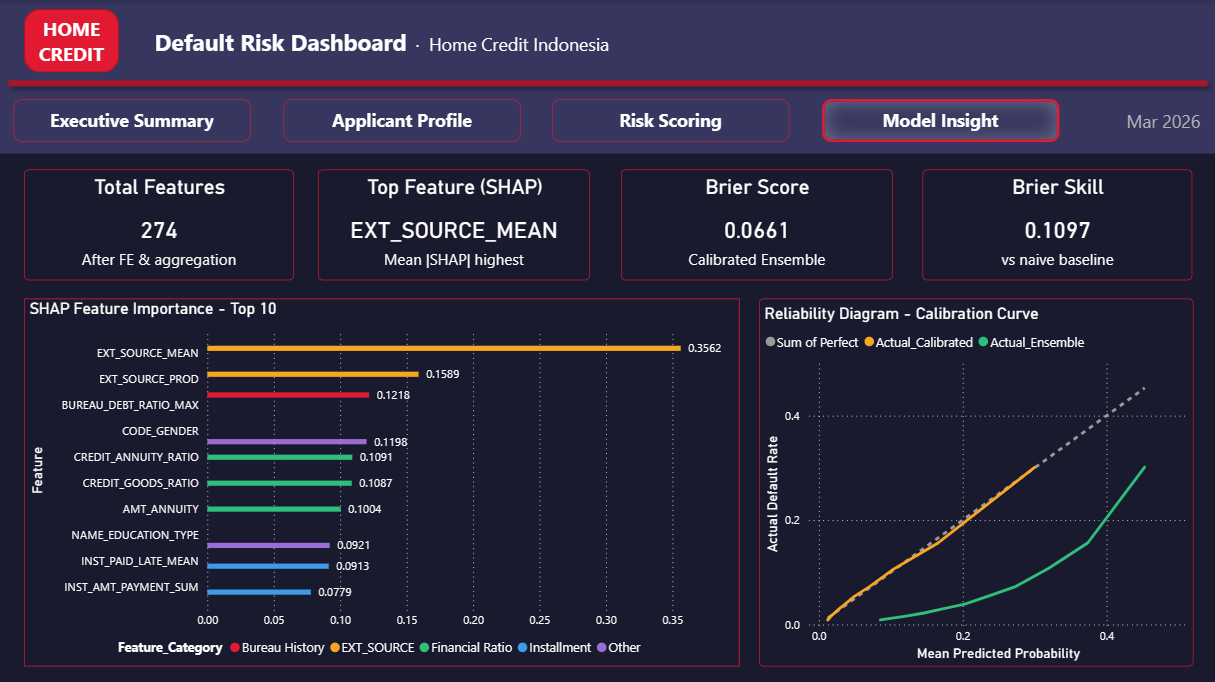

This screenshot's page, from the dashboard's own definition file:
{"tool":"powerbi","page":{"name":"Model Insight","canvas":[1280,720],"ordinal":3},"visuals":[{"type":"shape","box":[0,0,1280,161.7],"z":0},{"type":"shape","box":[0,26.7,1280,121.7],"z":1000},{"type":"actionButton","title":"Executive Summary","box":[298.2,103.9,250,45],"z":2000},{"type":"actionButton","title":"Executive Summary","box":[14.9,103.9,250,45],"z":3000},{"type":"actionButton","title":"Executive Summary","box":[581.5,103.9,250,45],"z":4000},{"type":"actionButton","title":"Executive Summary","box":[864.9,103.9,250,45],"z":5000},{"type":"shape","box":[25,10,100,66.7],"z":6000},{"type":"textbox","box":[145,21.7,513.3,43.3],"z":7000},{"type":"textbox","box":[1165,108.3,103.3,35],"z":8000},{"type":"card","title":"Brier Score","fields":{"Values":["pbi_model_kpi.Brier Score"]},"box":[654.3,179.1,286.2,116.8],"z":9000},{"type":"card","title":"Brier Skill","fields":{"Values":["pbi_model_kpi.Brier Skill"]},"box":[971.7,179.1,284.3,116.8],"z":10000},{"type":"card","title":"Total Features","fields":{"Values":["pbi_model_kpi.Total Features"]},"box":[25.3,179.1,284.3,116.8],"z":11000},{"type":"card","title":"Top Feature (SHAP)","fields":{"Values":["pbi_model_kpi.Top SHAP Feature"]},"box":[334.9,179.1,286.2,116.8],"z":12000},{"type":"clusteredBarChart","title":"SHAP Feature Importance - Top 10","fields":{"Category":["pbi_feature_importance.Feature"],"Series":["pbi_feature_importance.Feature_Category"],"Y":["Sum(pbi_feature_importance.SHAP_Importance)"]},"box":[25.3,313.5,753.6,387.5],"z":13000},{"type":"lineChart","title":"Reliability Diagram - Calibration Curve","fields":{"Category":["pbi_calibration_curve.Mean_Pred"],"Y":["Sum(pbi_calibration_curve.Perfect)","pbi_calibration_curve.Actual_Calibrated","pbi_calibration_curve.Actual_Ensemble"]},"box":[798.4,313.5,457.6,387.5],"z":14000}]}

Visuals, with their boxes in screenshot pixels (x1, y1, x2, y2), scaled from the page's 1280x720 canvas onto the 1215x682 screenshot:
shape: (0,0,1214,153)
shape: (0,25,1214,141)
"Executive Summary" actionButton: (283,98,520,141)
"Executive Summary" actionButton: (14,98,251,141)
"Executive Summary" actionButton: (552,98,789,141)
"Executive Summary" actionButton: (821,98,1058,141)
shape: (24,9,119,73)
textbox: (138,21,625,62)
textbox: (1106,103,1204,136)
"Brier Score" card: (621,170,893,280)
"Brier Skill" card: (922,170,1192,280)
"Total Features" card: (24,170,294,280)
"Top Feature (SHAP)" card: (318,170,590,280)
"SHAP Feature Importance - Top 10" clusteredBarChart: (24,297,739,664)
"Reliability Diagram - Calibration Curve" lineChart: (758,297,1192,664)
